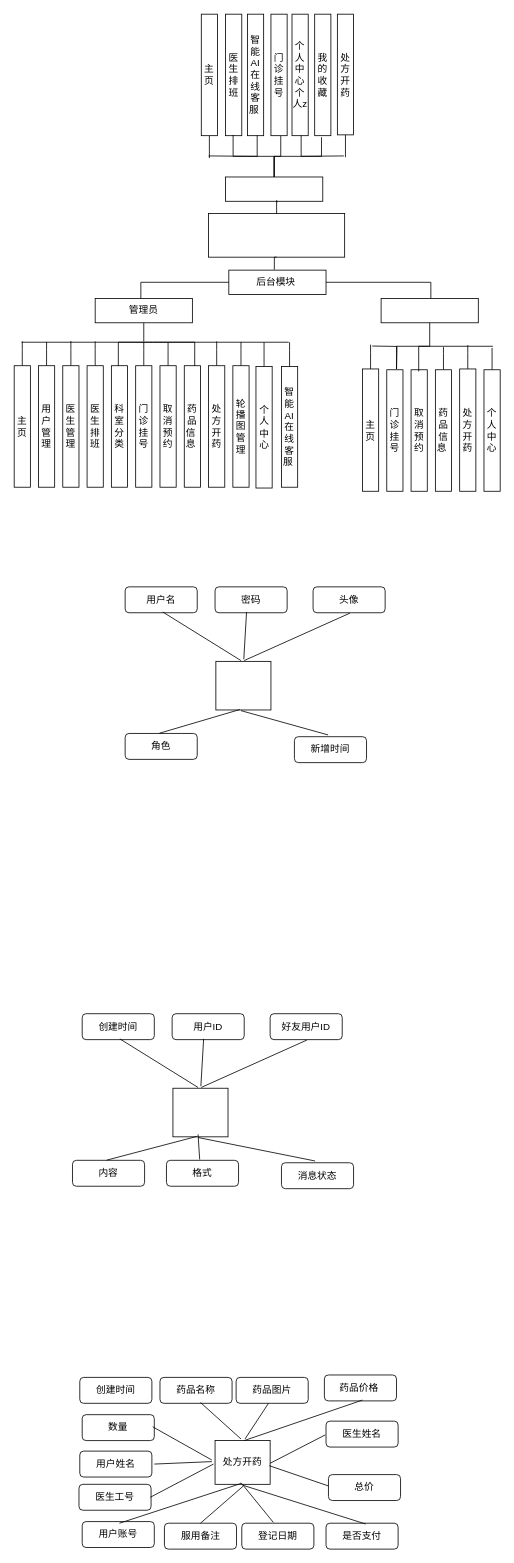
Image size: 514x1563. Some labels were removed from this diagram. The shapes that lost their labels are listed below. From the top down, each one's centre as x and y in pixels, then its label:
(274,188): 前台模块
(276,235): 面向基层医疗机构的 python 医疗数据管理系统
(429,310): 医生
(243,685): 管理员
(200,1112): 消息表
